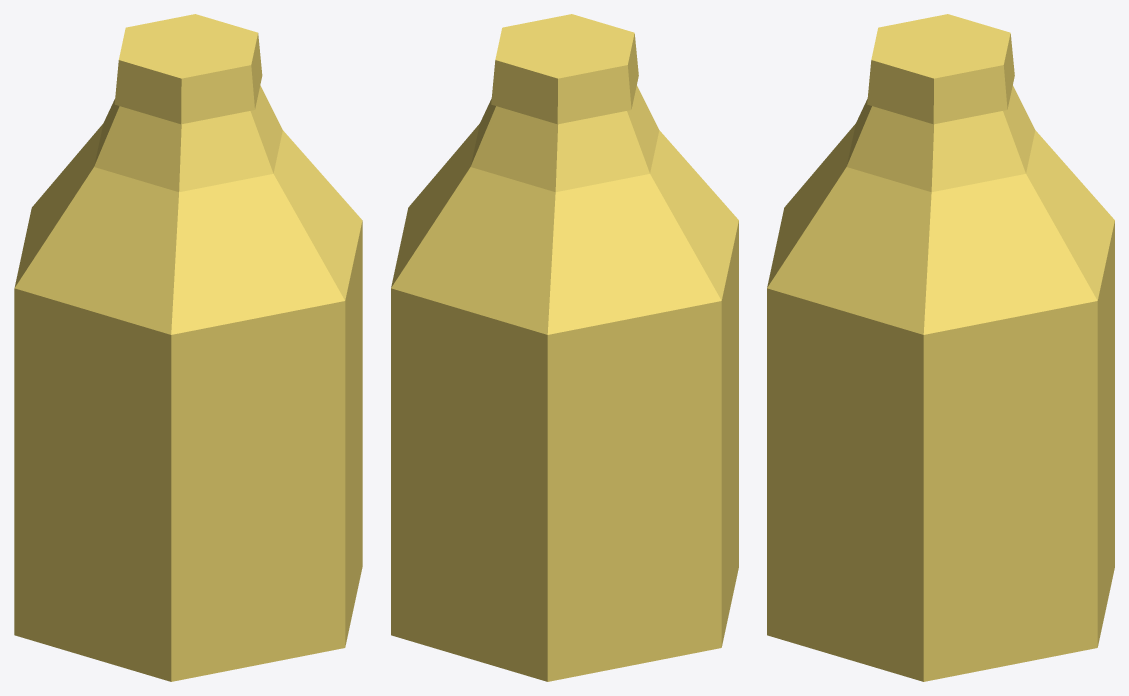
Rendered from Garage_Bottle.fbx.
The picture shows the model from 3 angles, left to right: view 1: azimuth 30°, elevation 25°; view 2: azimuth 150°, elevation 25°; view 3: azimuth 270°, elevation 25°; orthographic projection.
Visible parts, largest first — view 1: Garage_Bottle; view 2: Garage_Bottle; view 3: Garage_Bottle.
Part boxes in pixels (x1=…): Garage_Bottle: x1=14, y1=14, x2=362, y2=681; Garage_Bottle: x1=391, y1=14, x2=738, y2=681; Garage_Bottle: x1=767, y1=14, x2=1114, y2=681.
Size of the model in its own units: 10.77 by 17.27 by 9.82.
